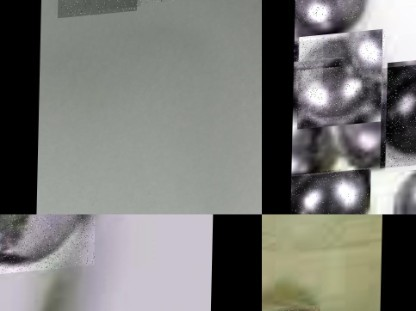ironball: (295, 33, 384, 127), (294, 96, 382, 171), (0, 214, 96, 277), (380, 62, 415, 171), (290, 169, 369, 214), (341, 26, 389, 84), (294, 0, 362, 25), (392, 169, 414, 210)
